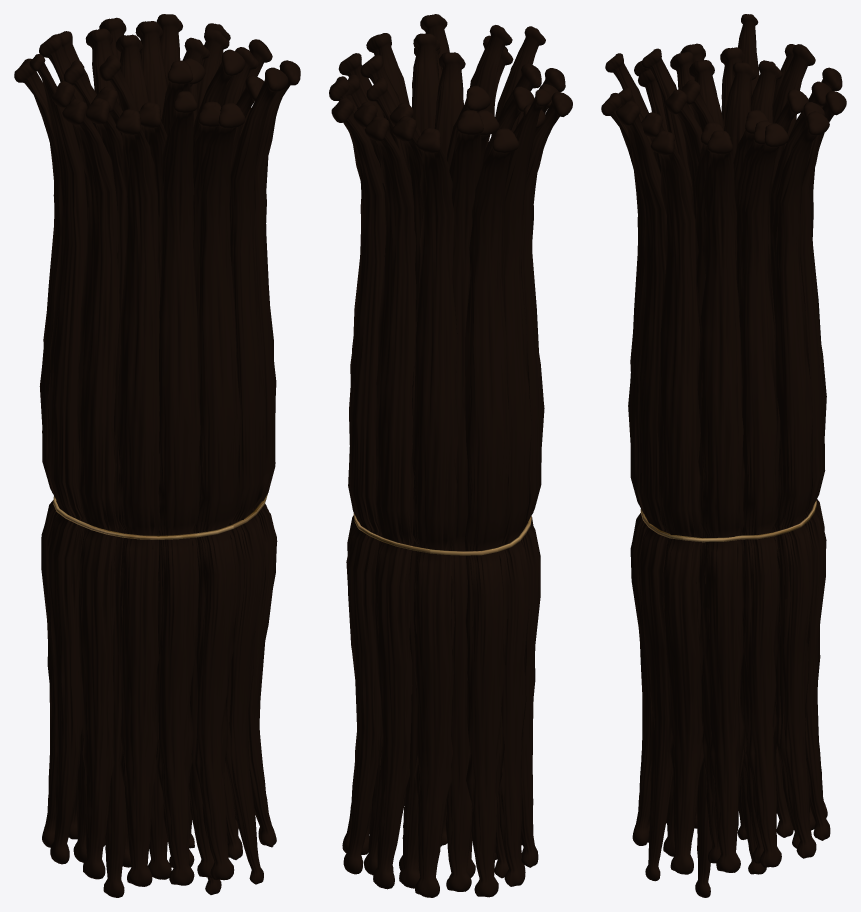
File: Vanilla-transformed.glb
The picture shows the model from 3 angles, left to right: view 1: azimuth 30°, elevation 25°; view 2: azimuth 150°, elevation 25°; view 3: azimuth 270°, elevation 25°; orthographic projection. The views are drawn at different scales.
Visible parts, largest first — view 1: Circle.030, Circle.035; view 2: Circle.030, Circle.035; view 3: Circle.030, Circle.035.
Boxes of the visible parts, x1,y1,x2,y2 form: Circle.030: (14, 14, 300, 897); Circle.035: (53, 494, 267, 539); Circle.030: (329, 14, 572, 897); Circle.035: (353, 513, 531, 555); Circle.030: (601, 14, 846, 897); Circle.035: (640, 500, 816, 542).
Size of the model in its own units: 0.804 by 2.93 by 0.7946.
2 materials, 1 textured.
